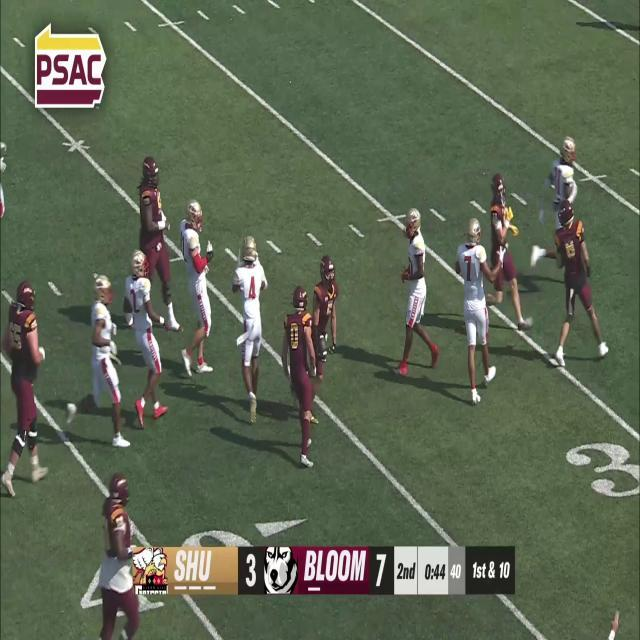football: (318, 332, 328, 362)
